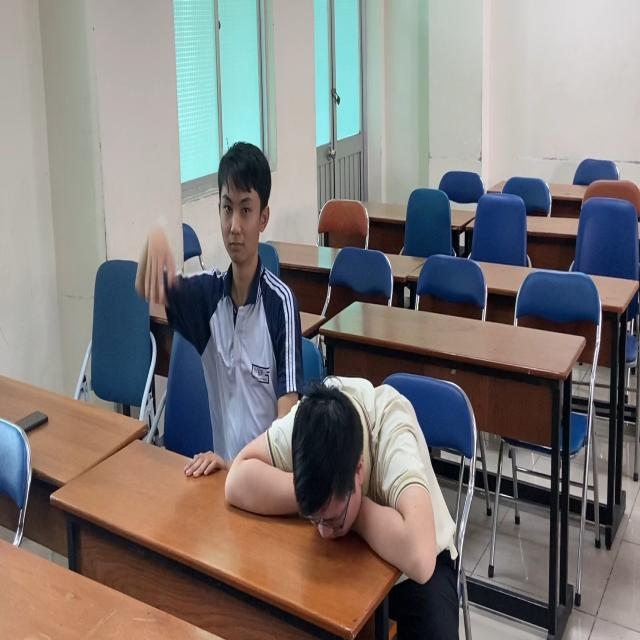sleep: (223, 369, 433, 576)
